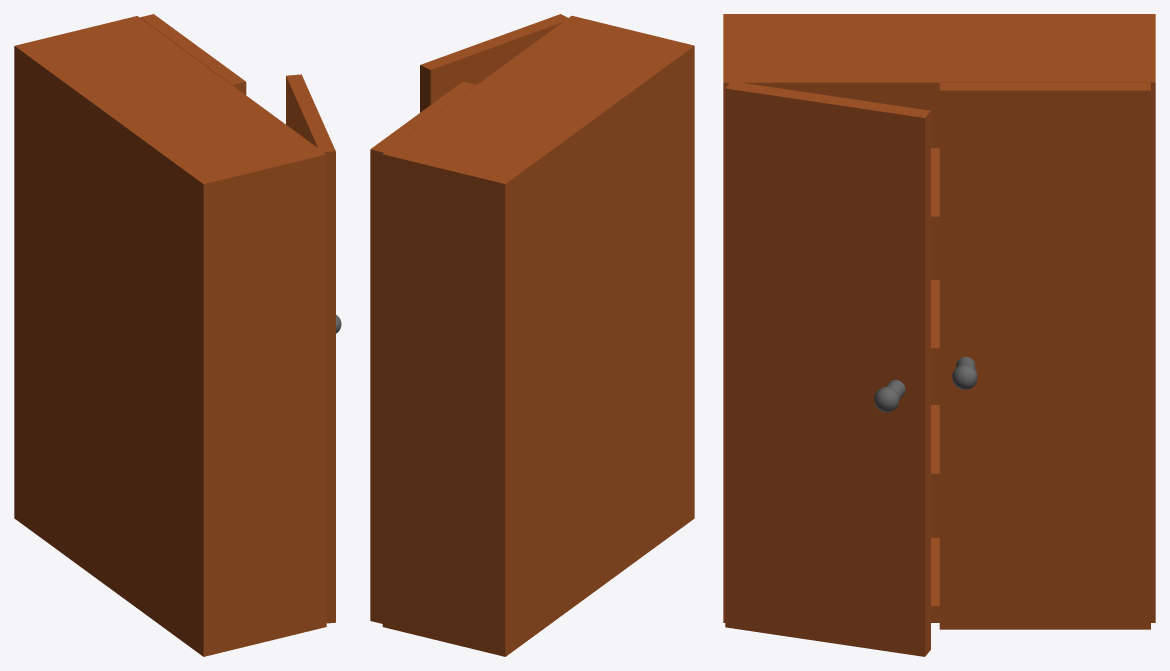
The model's file is Cupboard.glb.
3 renders of one model, left to right at view 1: azimuth 30°, elevation 25°; view 2: azimuth 150°, elevation 25°; view 3: azimuth 270°, elevation 25°, orthographic. The views are drawn at different scales.
Visible parts, largest first — view 1: Cupboard; view 2: Cupboard; view 3: Cupboard.
Boxes of the visible parts, x1,y1,x2,y2 form: Cupboard: (14,14,341,656); Cupboard: (370,14,694,656); Cupboard: (723,14,1155,656).
Size of the model in its own units: 2.8 by 6.08 by 4.41.
